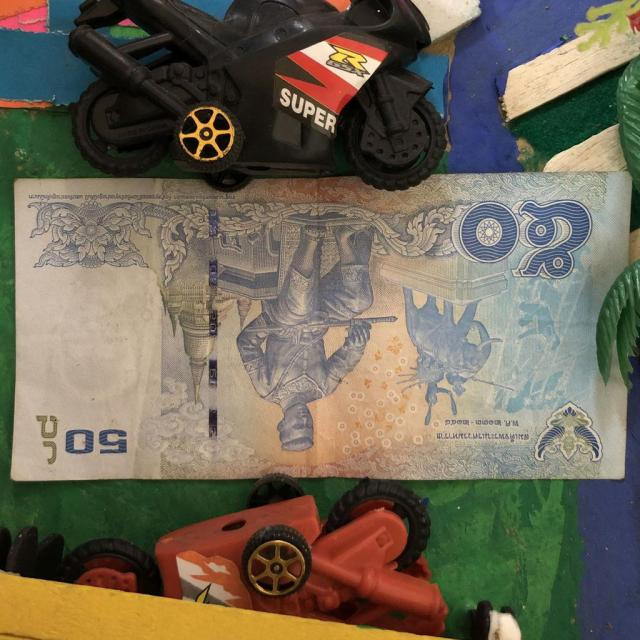THAI50: (9, 166, 631, 480)
